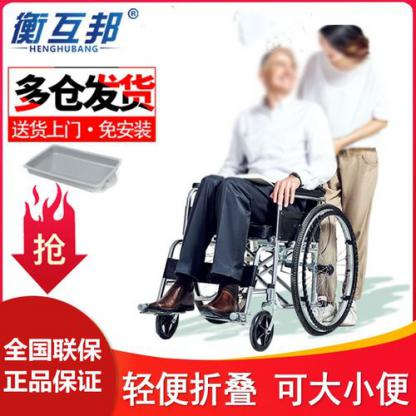wheelchair: (156, 52, 354, 350)
